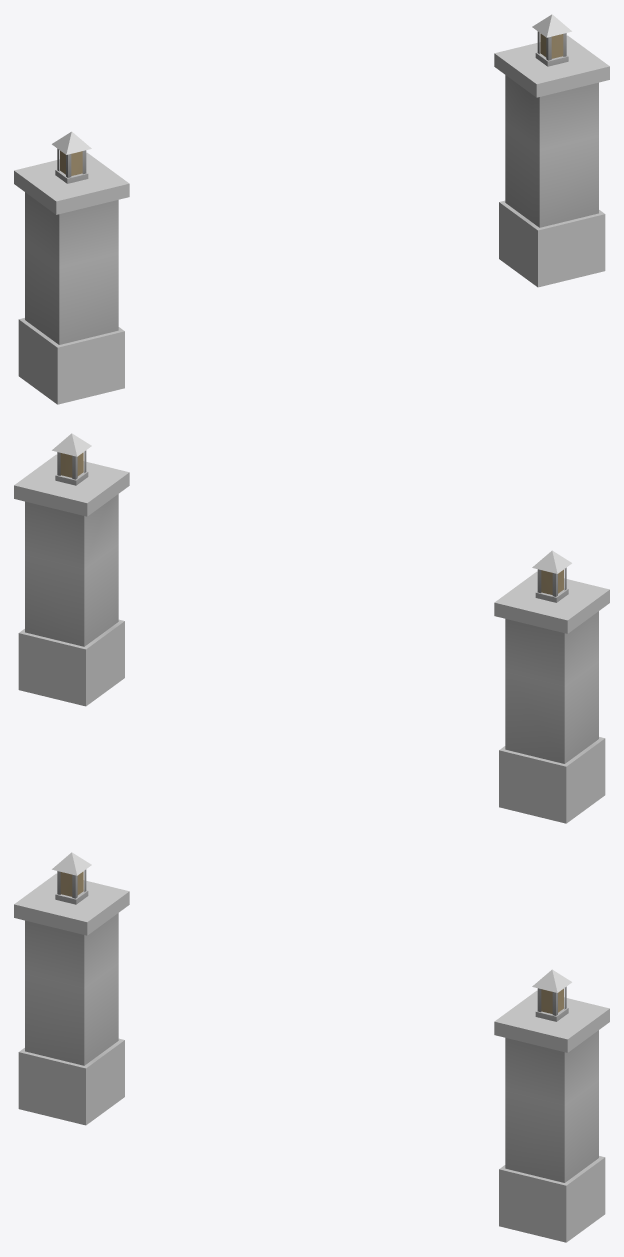
File: cw_head.glb
3 renders of one model, top to bottom at view 1: azimuth 30°, elevation 25°; view 2: azimuth 150°, elevation 25°; view 3: azimuth 330°, elevation 25°, orthographic.
Parts seen in each view (by area): view 1: cw_head_MC_Roof, cw_head_MC_Glow; view 2: cw_head_MC_Roof, cw_head_MC_Glow; view 3: cw_head_MC_Roof, cw_head_MC_Glow.
Boxes of the visible parts, x1,y1,x2,y2 form: cw_head_MC_Roof: (14, 14, 609, 404); cw_head_MC_Glow: (60, 33, 563, 175); cw_head_MC_Roof: (14, 433, 609, 823); cw_head_MC_Glow: (60, 452, 563, 594); cw_head_MC_Roof: (14, 852, 609, 1242); cw_head_MC_Glow: (60, 871, 563, 1013).
Bounding box in the file's own units: 11.18 × 4.84 × 1.48.
